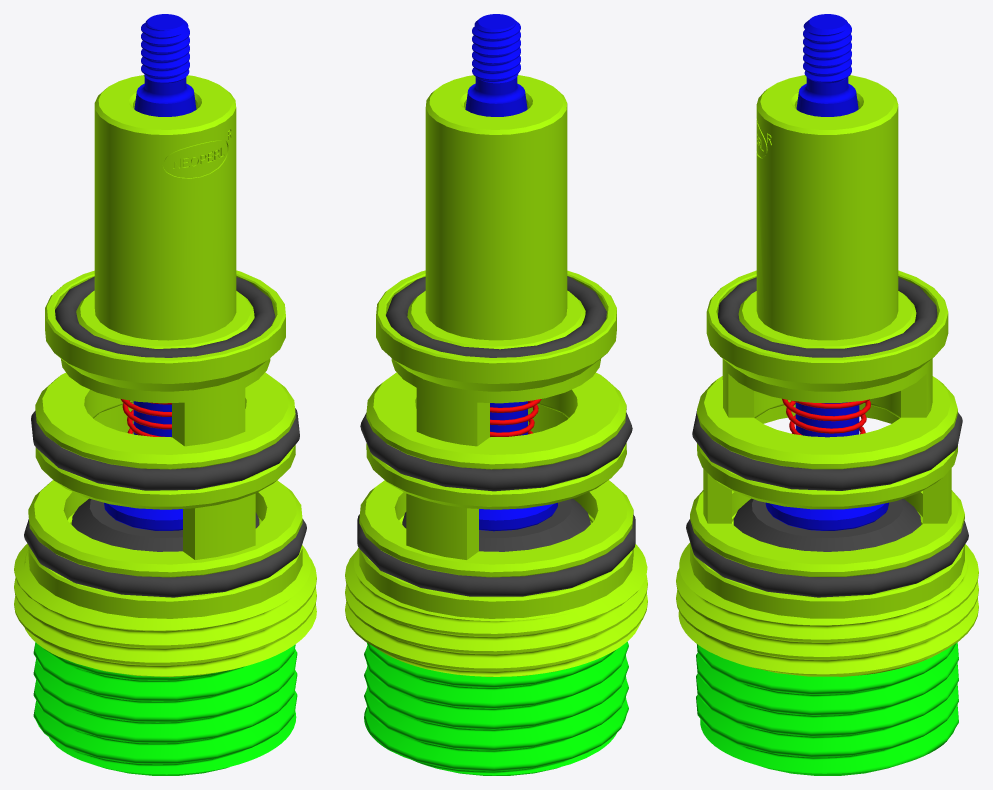
The model's file is Umsteller.fbx.
The picture shows the model from 3 angles, left to right: view 1: azimuth 30°, elevation 25°; view 2: azimuth 150°, elevation 25°; view 3: azimuth 270°, elevation 25°; orthographic projection.
Parts seen in each view (by area): view 1: Ronny_506501__000-SPK, Ronny_506521_0000-SPK, Ronny_55965310000-SPK (×2), Ronny_50651110000-SPK, Ronny_55965110000-SPK, Ronny_55650110000-SPK, Ronny_56960210000-SPK; view 2: Ronny_506501__000-SPK, Ronny_506521_0000-SPK, Ronny_55965310000-SPK (×2), Ronny_50651110000-SPK, Ronny_55965110000-SPK, Ronny_55650110000-SPK, Ronny_56960210000-SPK; view 3: Ronny_506501__000-SPK, Ronny_506521_0000-SPK, Ronny_55965310000-SPK (×2), Ronny_50651110000-SPK, Ronny_55650110000-SPK, Ronny_55965110000-SPK, Ronny_56960210000-SPK.
Part boxes in pixels (x1,y1,x2,y2): Ronny_506501__000-SPK: (14,75,316,677); Ronny_506521_0000-SPK: (33,642,297,775); Ronny_55965310000-SPK (×2): (24,408,306,597); Ronny_50651110000-SPK: (104,14,196,530); Ronny_55965110000-SPK: (55,276,275,357); Ronny_55650110000-SPK: (71,498,259,551); Ronny_56960210000-SPK: (120,399,171,437); Ronny_506501__000-SPK: (345,75,647,676); Ronny_506521_0000-SPK: (364,641,628,775); Ronny_55965310000-SPK (×2): (357,412,635,596); Ronny_50651110000-SPK: (465,14,557,531); Ronny_55965110000-SPK: (386,276,606,357); Ronny_55650110000-SPK: (402,498,590,551); Ronny_56960210000-SPK: (490,399,541,436); Ronny_506501__000-SPK: (676,75,978,676); Ronny_506521_0000-SPK: (696,642,958,775); Ronny_55965310000-SPK (×2): (686,411,968,597); Ronny_50651110000-SPK: (765,14,888,530); Ronny_55650110000-SPK: (733,498,921,551); Ronny_55965110000-SPK: (718,277,937,357); Ronny_56960210000-SPK: (782,398,870,435).
Size of the model in its own units: 23.79 by 61.43 by 23.79.
